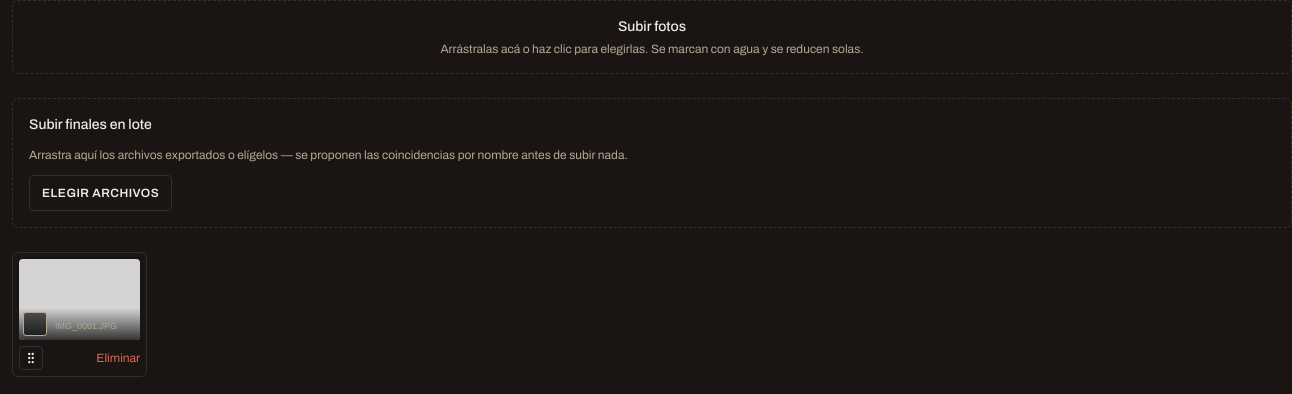
Scenario: GalleryWorkspace › removes an asset from the grid when its tile reports it deleted
The width and height of the screenshot is (1292, 394).
Expected: the text "IMG_0001.JPG" is shown, [55,321,117,331]
Click the button "Eliminar" at (118, 358), box [96,346,140,370]
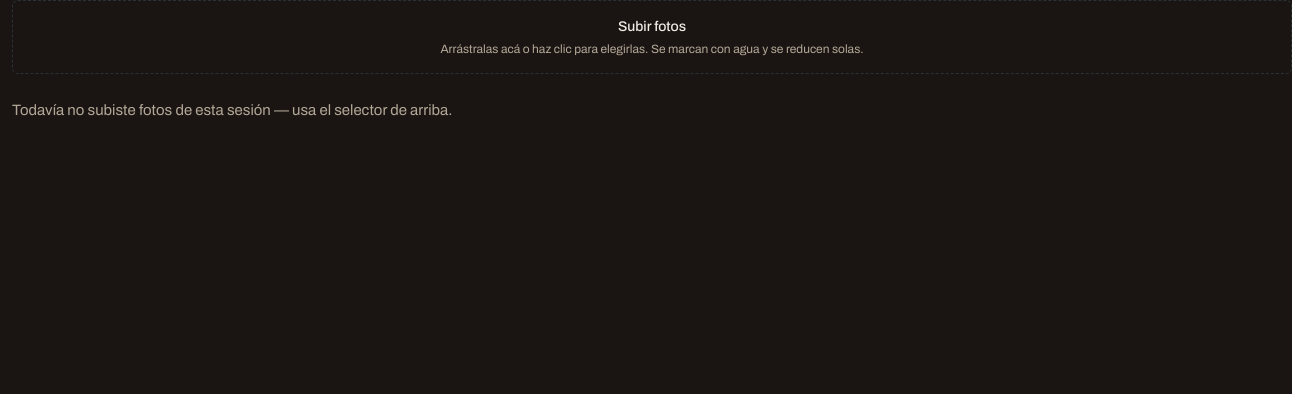
Expected: the text "IMG_0001.JPG" is gone
Expected: the text "Todavía no subiste fotos" is shown, [12,102,452,118]
